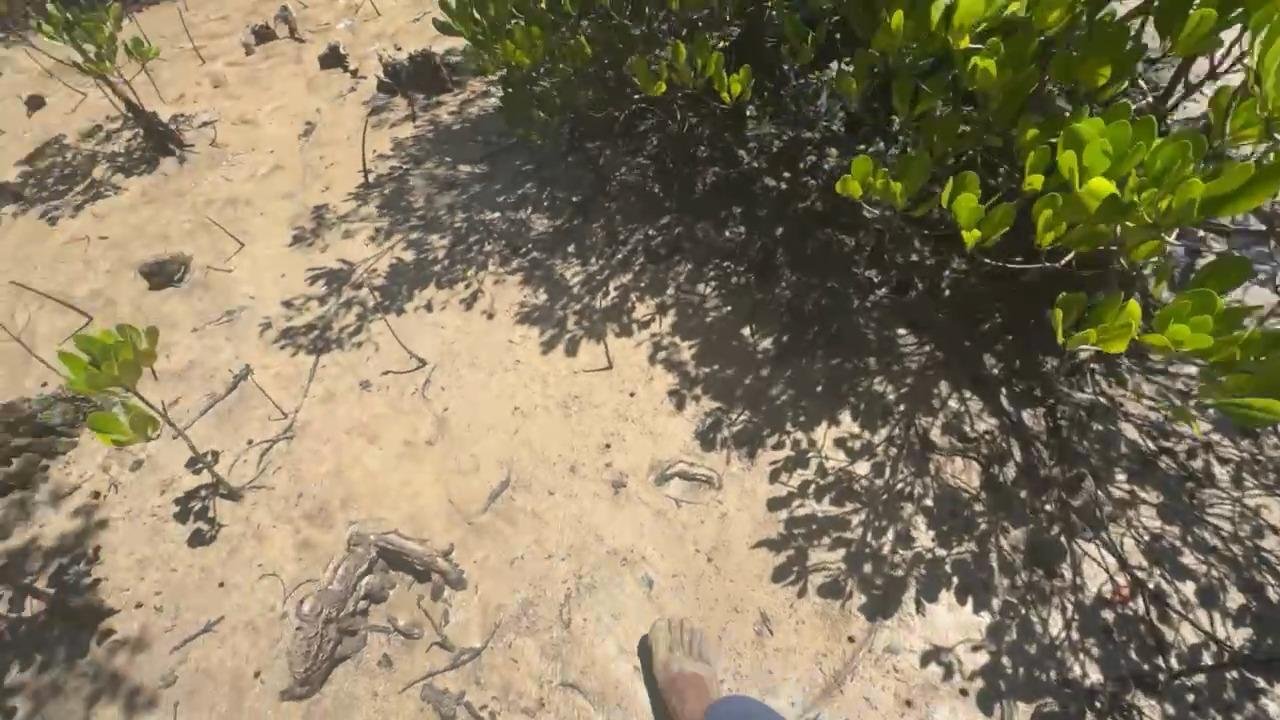Tree: (56, 323, 244, 502), (366, 283, 427, 365), (0, 320, 66, 381), (9, 280, 95, 321), (125, 38, 166, 103), (249, 372, 288, 420), (174, 8, 206, 63), (422, 608, 456, 654), (206, 215, 245, 246), (599, 298, 613, 369), (23, 48, 54, 76), (131, 10, 152, 47), (58, 76, 88, 97), (362, 120, 370, 187), (369, 0, 382, 16), (296, 0, 308, 6), (183, 0, 189, 12)
